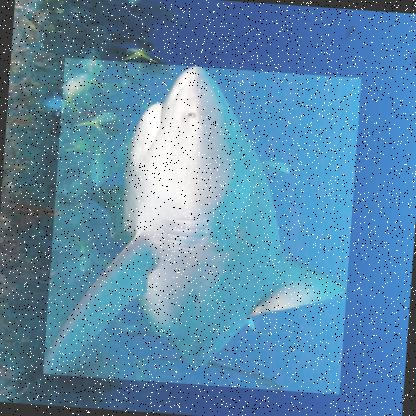bulldog-shark: (41, 58, 360, 396)
